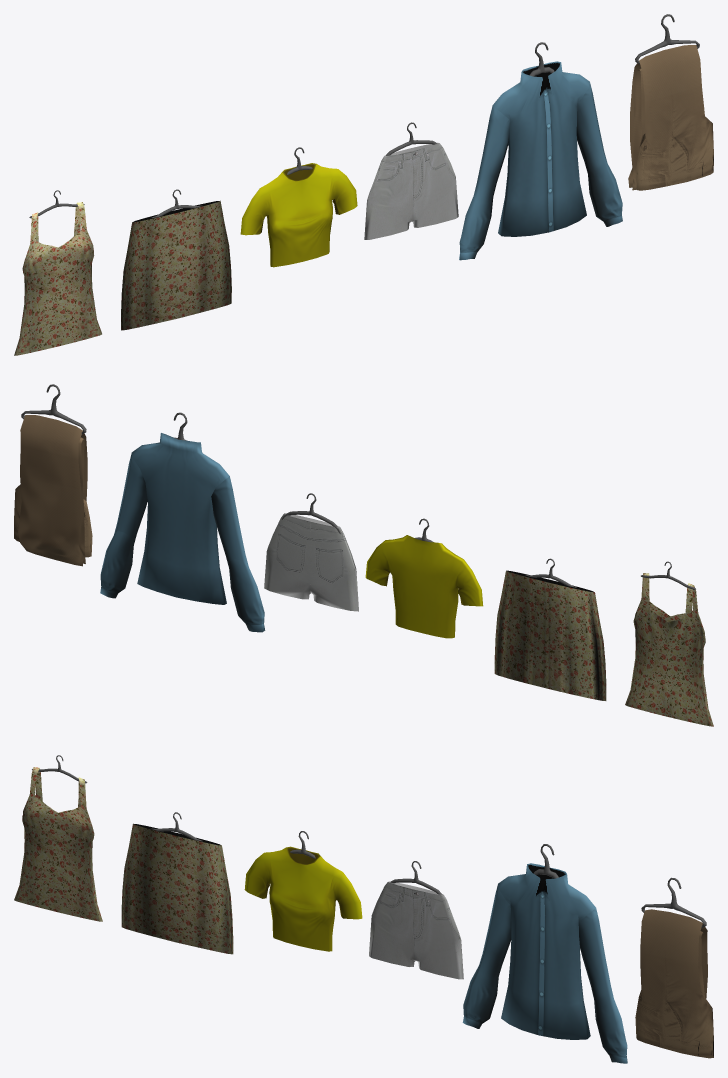
The model's file is Cloth.fbx.
3 views of the same model, one above another, from view 1: azimuth 30°, elevation 25°; view 2: azimuth 150°, elevation 25°; view 3: azimuth 330°, elevation 25° (orthographic).
Parts seen in each view (by area): view 1: man_up, woman_down, man_down, woman_up, girl_up, girl_down; view 2: man_up, woman_down, man_down, woman_up, girl_up, girl_down; view 3: man_up, woman_down, man_down, woman_up, girl_up, girl_down.
Part boxes in pixels (x1=…): man_up: x1=459, y1=42, x2=622, y2=260; woman_down: x1=121, y1=189, x2=231, y2=330; man_down: x1=628, y1=14, x2=713, y2=190; woman_up: x1=14, y1=190, x2=101, y2=355; girl_up: x1=240, y1=147, x2=357, y2=267; girl_down: x1=364, y1=122, x2=458, y2=239; man_up: x1=100, y1=412, x2=265, y2=632; woman_down: x1=494, y1=558, x2=606, y2=700; man_down: x1=14, y1=384, x2=92, y2=566; woman_up: x1=625, y1=561, x2=713, y2=726; girl_up: x1=365, y1=518, x2=483, y2=638; girl_down: x1=264, y1=493, x2=358, y2=611; man_up: x1=462, y1=844, x2=627, y2=1063; woman_down: x1=121, y1=812, x2=233, y2=954; man_down: x1=635, y1=877, x2=713, y2=1058; woman_up: x1=14, y1=755, x2=102, y2=921; girl_up: x1=244, y1=831, x2=362, y2=951; girl_down: x1=369, y1=861, x2=463, y2=979.
Bounding box in the file's own units: 225 × 61.71 × 8.26.
